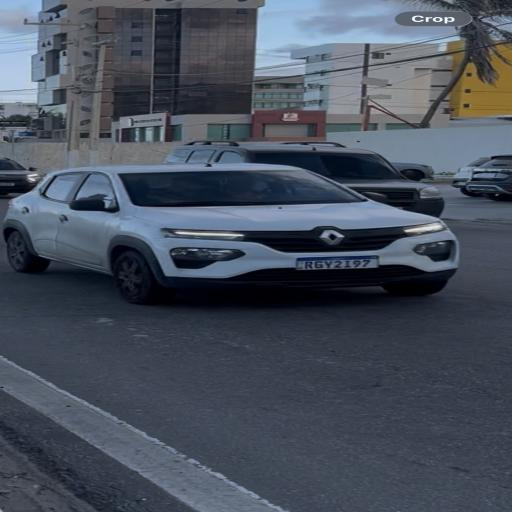detec-o-placas: (277, 246, 420, 295)
